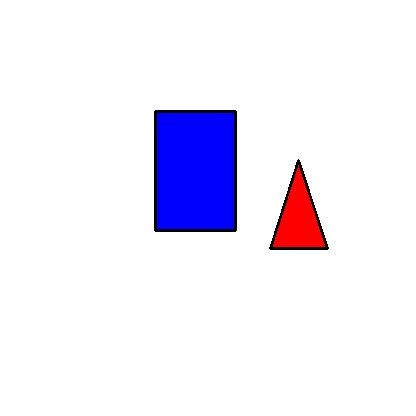rectangle: (155, 111, 235, 230)
triangle: (270, 160, 327, 248)
